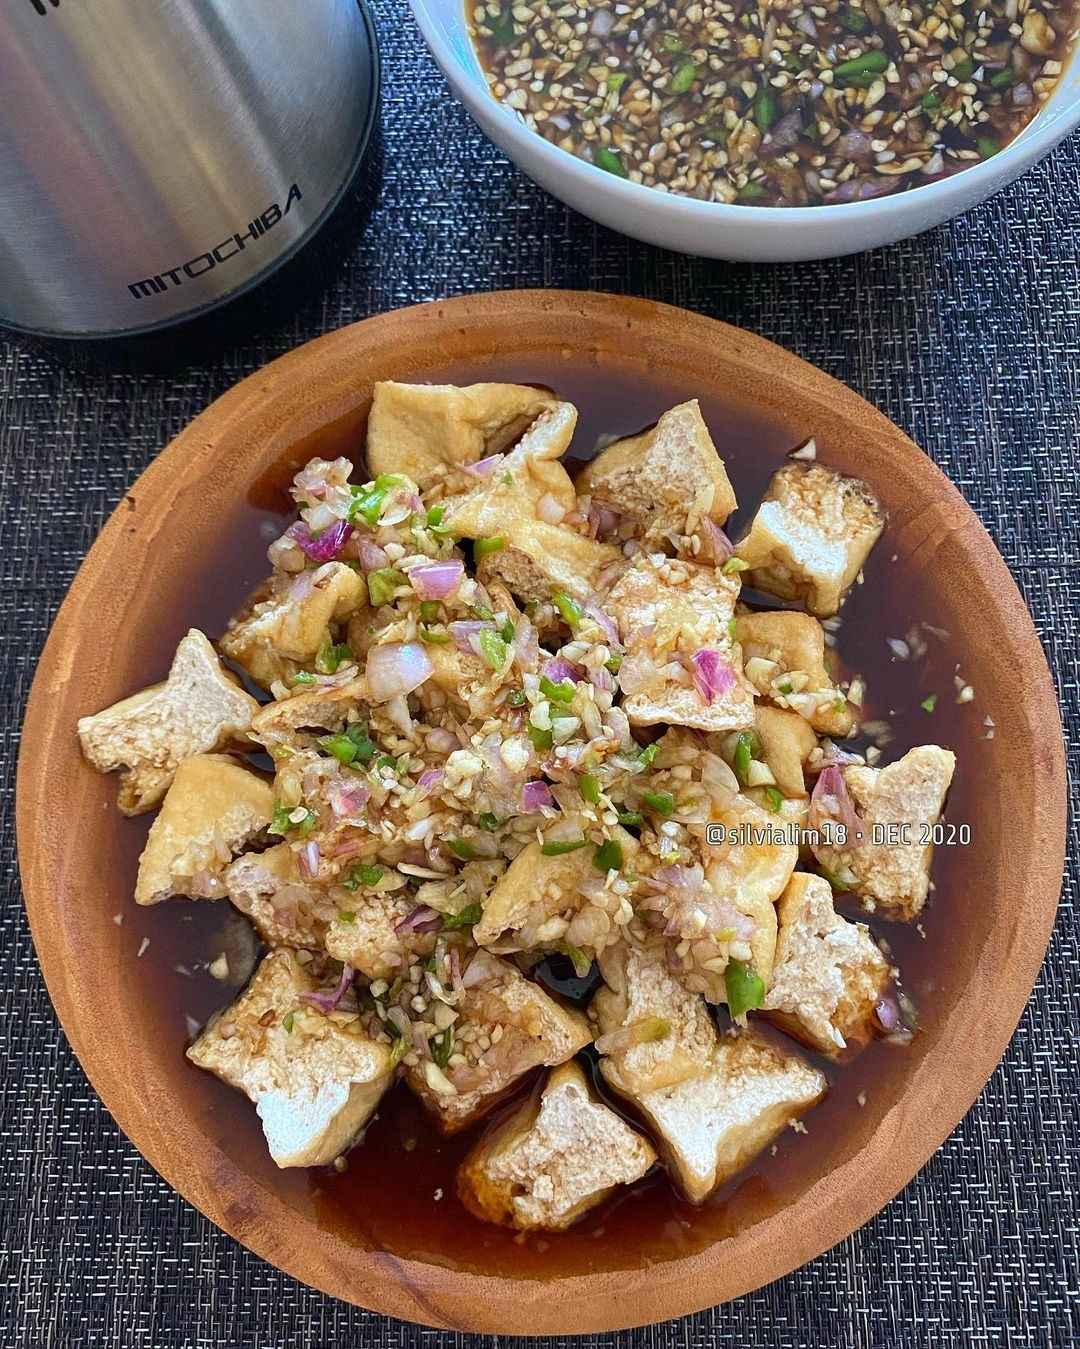tahu_gejrot: (73, 368, 958, 1245)
